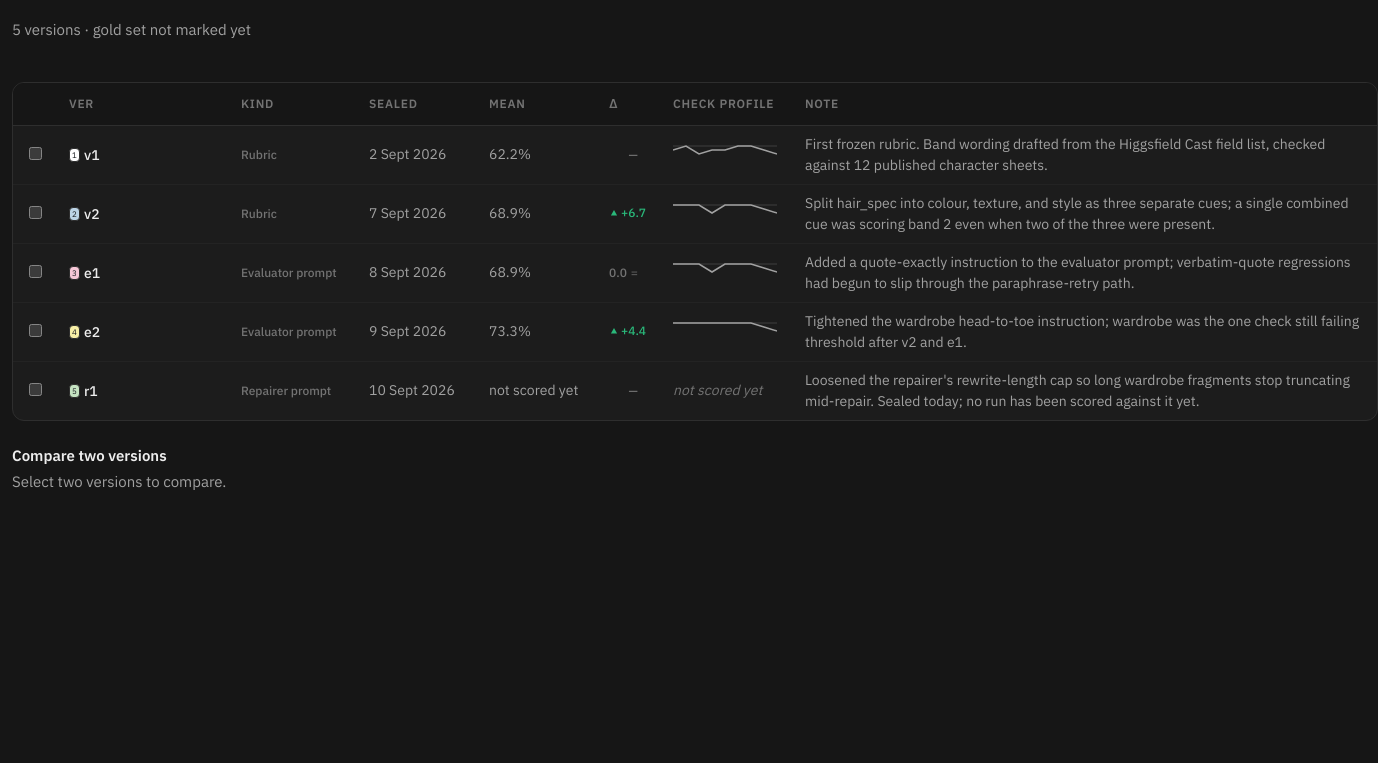
Test: VersionsScreen › renders 'not comparable' rather than a number when one selected version has no profile yet
This screenshot has width=1378, height=763.
Expected: the text "First frozen rubric" is shown, [805,134,1325,174]
Step 1. Click the checkbox named "Select v1 to compare" → [36, 153], box [29,146,42,160]
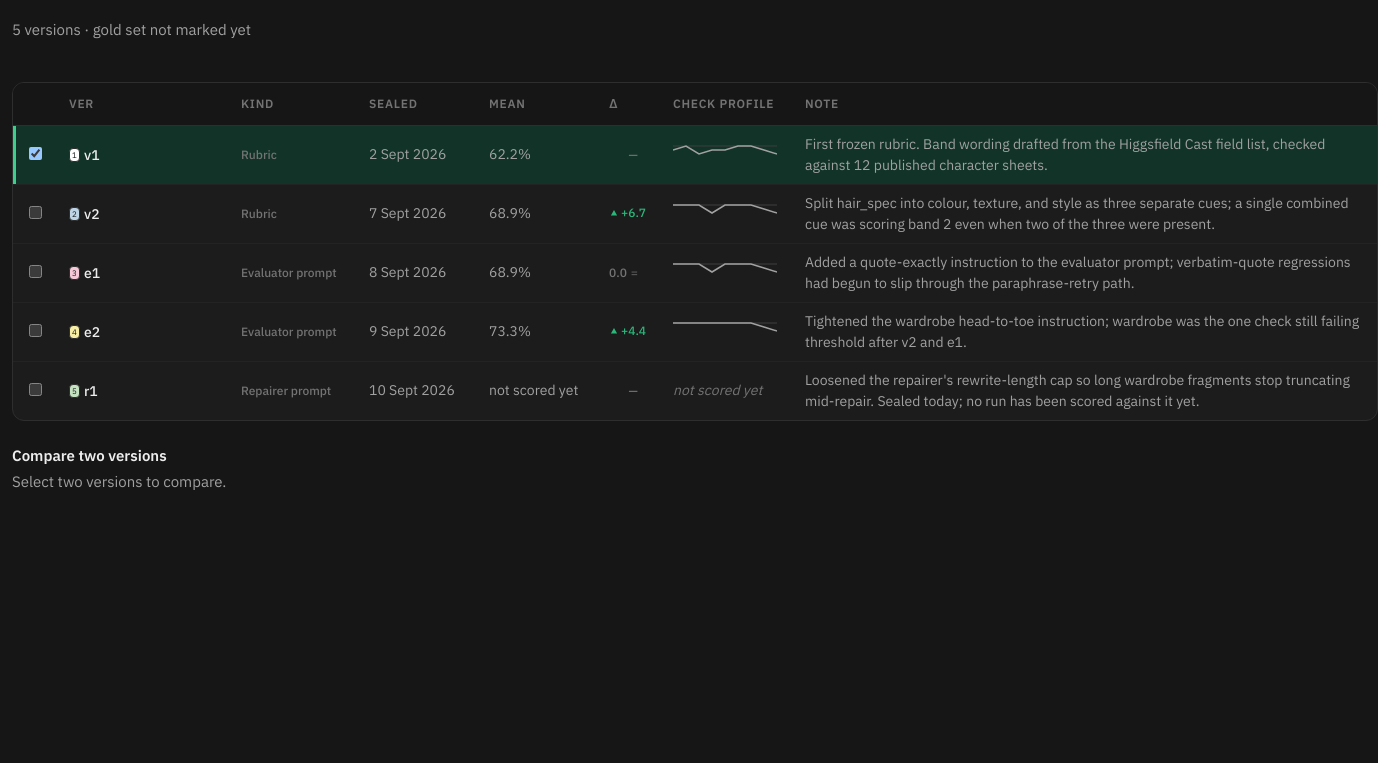
Step 2. Click the checkbox named "Select r1 to compare" → [36, 389], box [29,382,42,396]
(page scrolled)
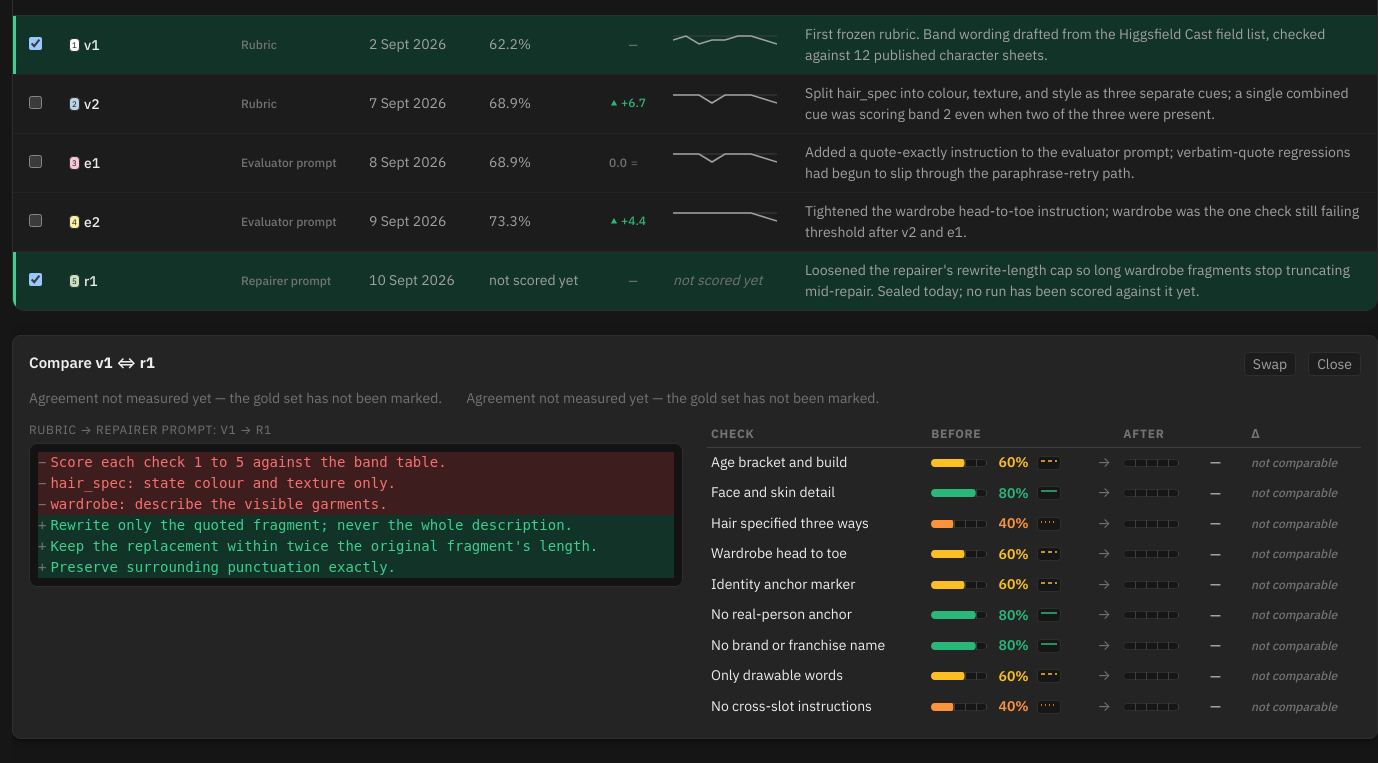
Expected: the element named "comparing v1 and r1" is shown, [12,334,1377,739]
Expected: the text "not comparable" is shown 9 times
